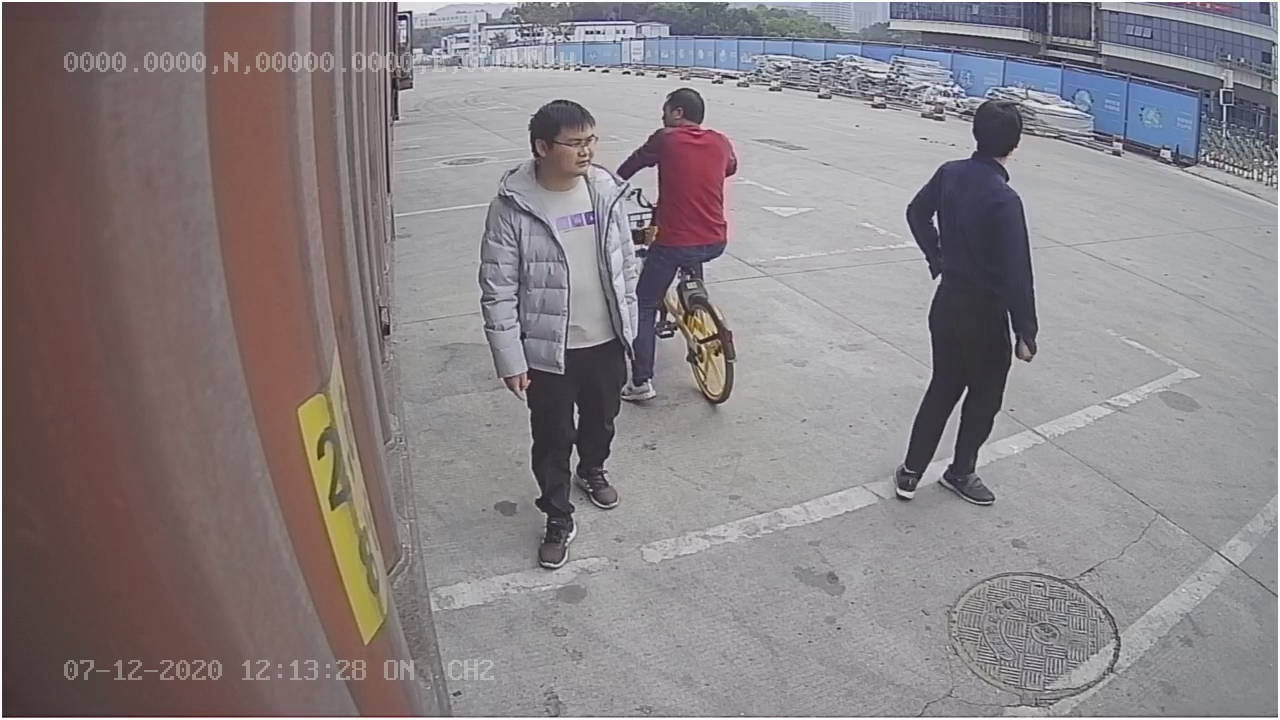person: (889, 94, 1047, 512)
